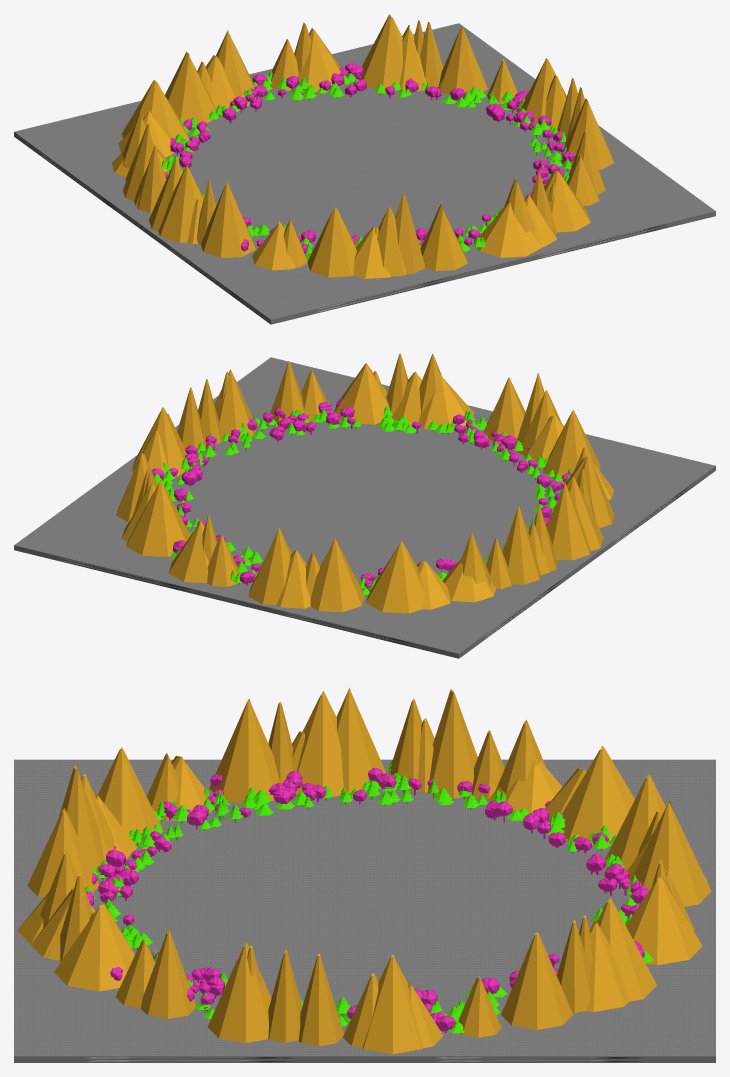
Rendered from Map1.glb.
3 renders of one model, top to bottom at view 1: azimuth 30°, elevation 25°; view 2: azimuth 150°, elevation 25°; view 3: azimuth 270°, elevation 25°, orthographic. The views are drawn at different scales.
Visible parts, largest first — view 1: Cube, Mountain_32_Height27m, Mountain_38_Height24m, Mountain_11_Height27m, Mountain_20_Height26m, Mountain_43_Height18m, Mountain_42_Height22m, Mountain_06_Height25m, Mountain_31_Height27m, Mountain_46_Height20m, Mountain_22_Height23m, Mountain_12_Height20m (+27 smaller); view 2: Cube, Mountain_11_Height27m, Mountain_22_Height23m, Mountain_20_Height26m, Mountain_29_Height28m, Mountain_46_Height20m, Mountain_15_Height28m, Mountain_26_Height29m, Mountain_38_Height24m, Mountain_12_Height20m, Mountain_42_Height22m, Mountain_53_Height26m (+23 smaller); view 3: Cube, Mountain_46_Height20m, Mountain_22_Height23m, Mountain_06_Height25m, Mountain_12_Height20m, Mountain_32_Height27m, Mountain_15_Height28m, Mountain_53_Height26m, Mountain_01_Height24m, Mountain_31_Height27m, Mountain_26_Height29m, Mountain_38_Height24m (+29 smaller).
Part boxes in pixels (<box>): Cube: <box>14,23,715,324</box>; Mountain_32_Height27m: <box>201,181,255,258</box>; Mountain_38_Height24m: <box>307,206,356,277</box>; Mountain_11_Height27m: <box>360,14,402,90</box>; Mountain_20_Height26m: <box>165,52,218,123</box>; Mountain_43_Height18m: <box>478,201,541,257</box>; Mountain_42_Height22m: <box>420,204,467,271</box>; Mountain_06_Height25m: <box>438,26,487,95</box>; Mountain_31_Height27m: <box>158,165,203,242</box>; Mountain_46_Height20m: <box>544,169,590,232</box>; Mountain_22_Height23m: <box>121,80,189,140</box>; Mountain_12_Height20m: <box>298,28,343,92</box>; Cube: <box>14,357,715,658</box>; Mountain_11_Height27m: <box>126,480,190,556</box>; Mountain_22_Height23m: <box>366,541,424,613</box>; Mountain_20_Height26m: <box>310,538,364,612</box>; Mountain_29_Height28m: <box>546,482,590,560</box>; Mountain_46_Height20m: <box>334,363,389,424</box>; Mountain_15_Height28m: <box>248,527,291,604</box>; Mountain_26_Height29m: <box>502,504,540,584</box>; Mountain_38_Height24m: <box>543,410,600,478</box>; Mountain_12_Height20m: <box>168,521,208,583</box>; Mountain_42_Height22m: <box>483,377,525,441</box>; Mountain_53_Height26m: <box>214,369,255,440</box>; Cube: <box>14,759,715,1062</box>; Mountain_46_Height20m: <box>54,904,134,991</box>; Mountain_22_Height23m: <box>561,745,634,845</box>; Mountain_06_Height25m: <box>501,932,573,1029</box>; Mountain_12_Height20m: <box>626,876,702,965</box>; Mountain_32_Height27m: <box>209,698,280,803</box>; Mountain_15_Height28m: <box>626,801,711,906</box>; Mountain_53_Height26m: <box>208,942,271,1042</box>; Mountain_01_Height24m: <box>362,954,422,1054</box>; Mountain_31_Height27m: <box>295,691,343,798</box>; Mountain_26_Height29m: <box>428,689,477,798</box>; Mountain_38_Height24m: <box>97,747,162,844</box>.
Size of the model in its own units: 191 by 31.36 by 191.
Materials: 4 (1 with a texture image).
